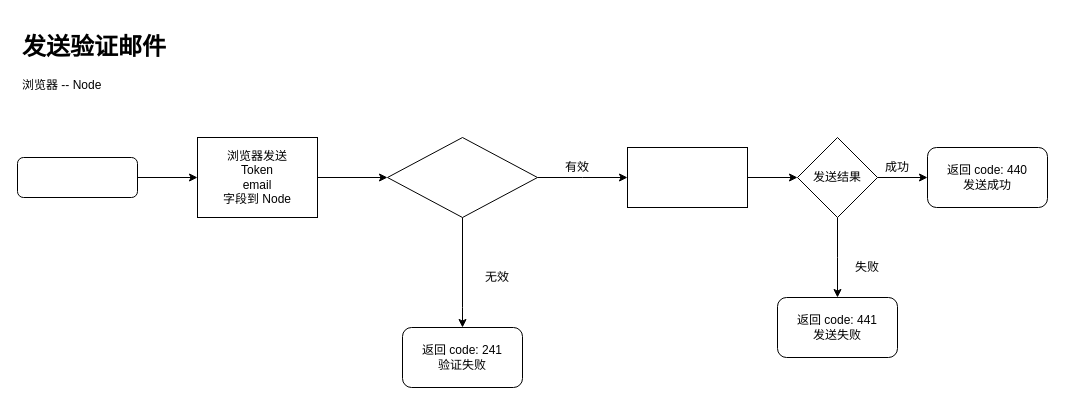
This 1065x405 diagram has some shape labels left out. The shapes that lost their labels are listed below. From the top down, each one's centre as x and y in pixels, then its label:
(77,177): 点击发送验证邮件的按钮
(462,177): 验证 Token 是否有效
(687,177): 调用 阿里云 的接口发送邮件
